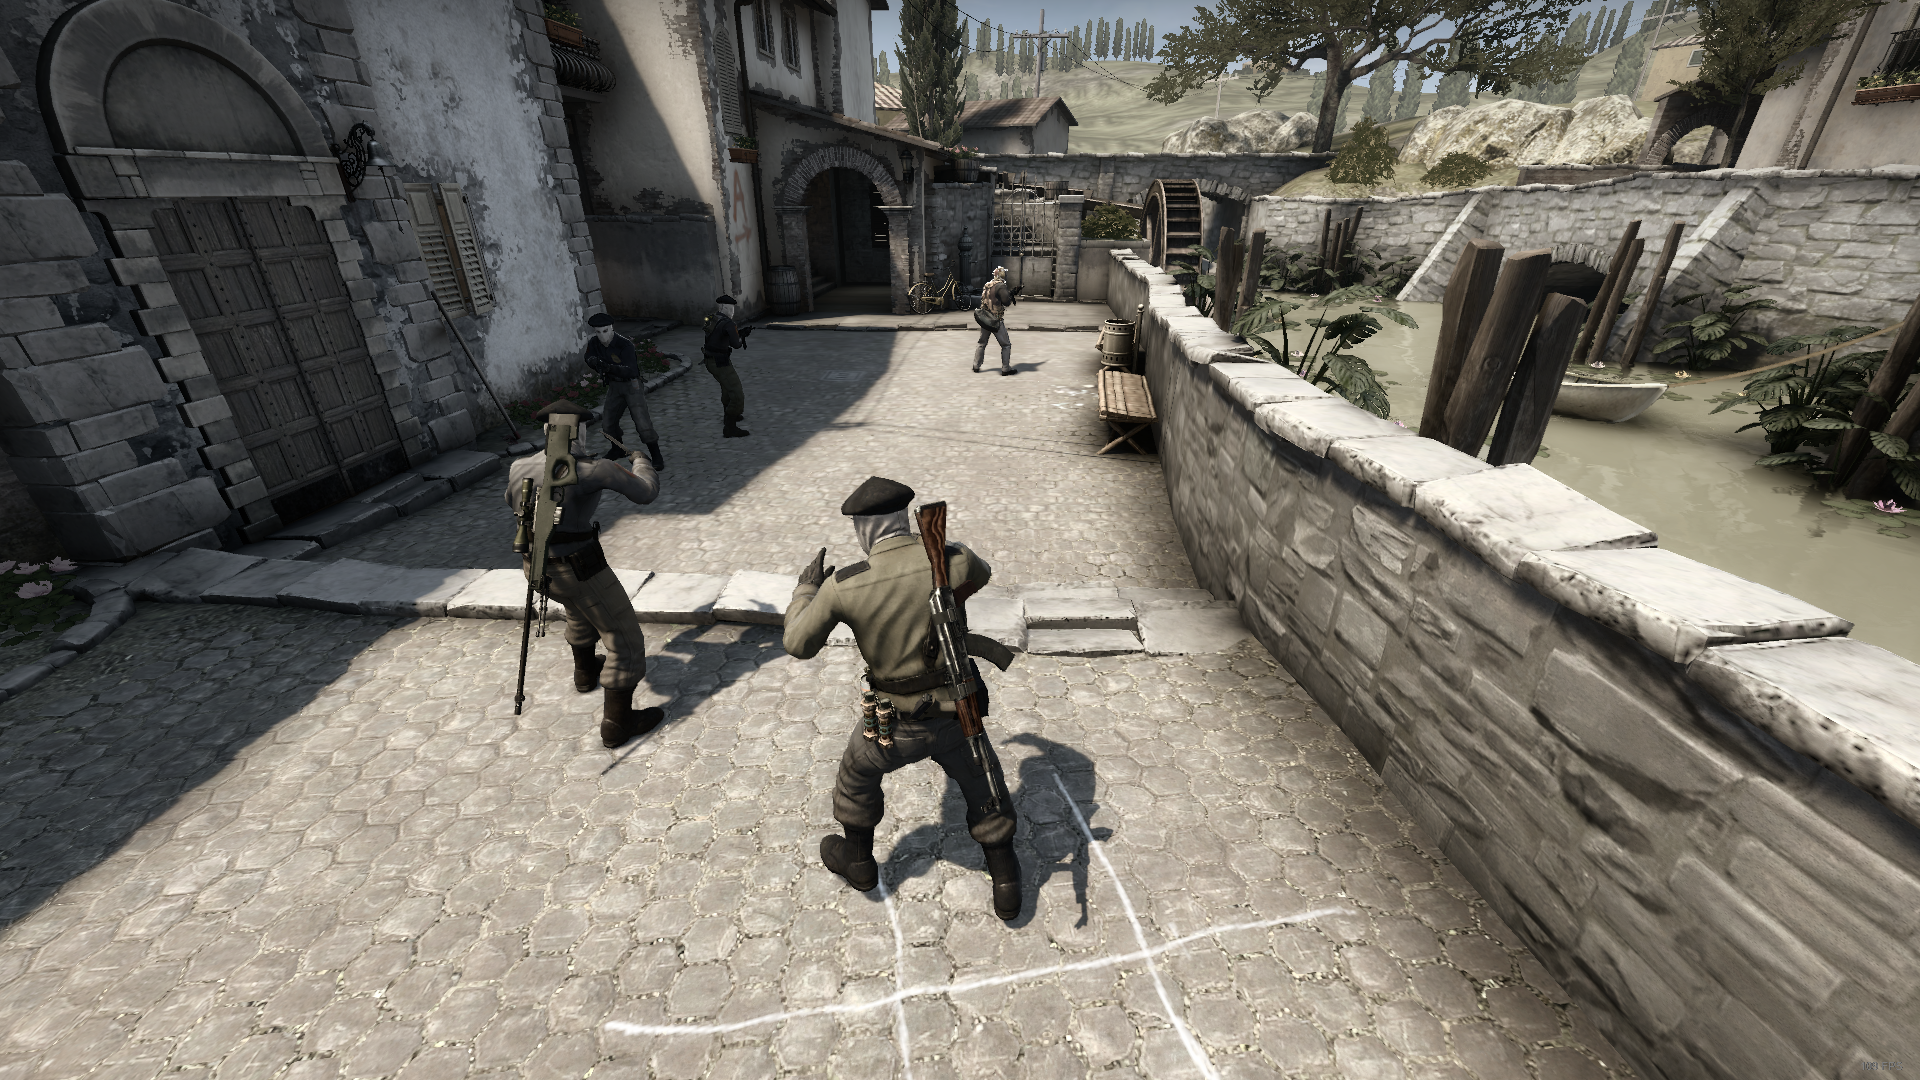t: (783, 477, 1025, 923), (509, 400, 666, 746), (584, 314, 665, 473), (702, 294, 752, 440)
